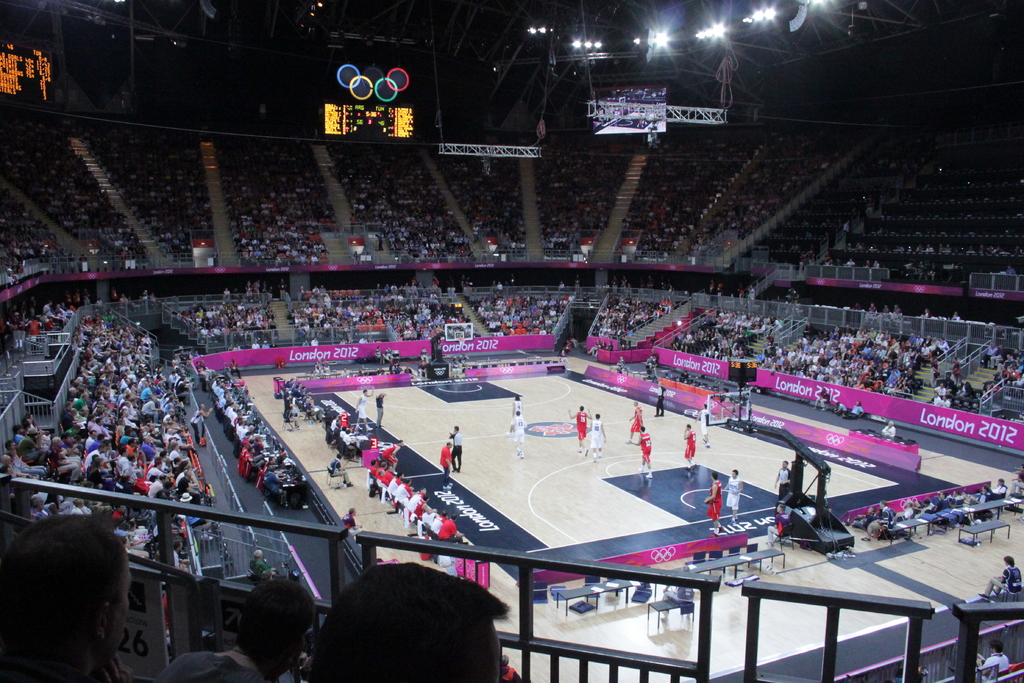Person: (0, 110, 1024, 682)
